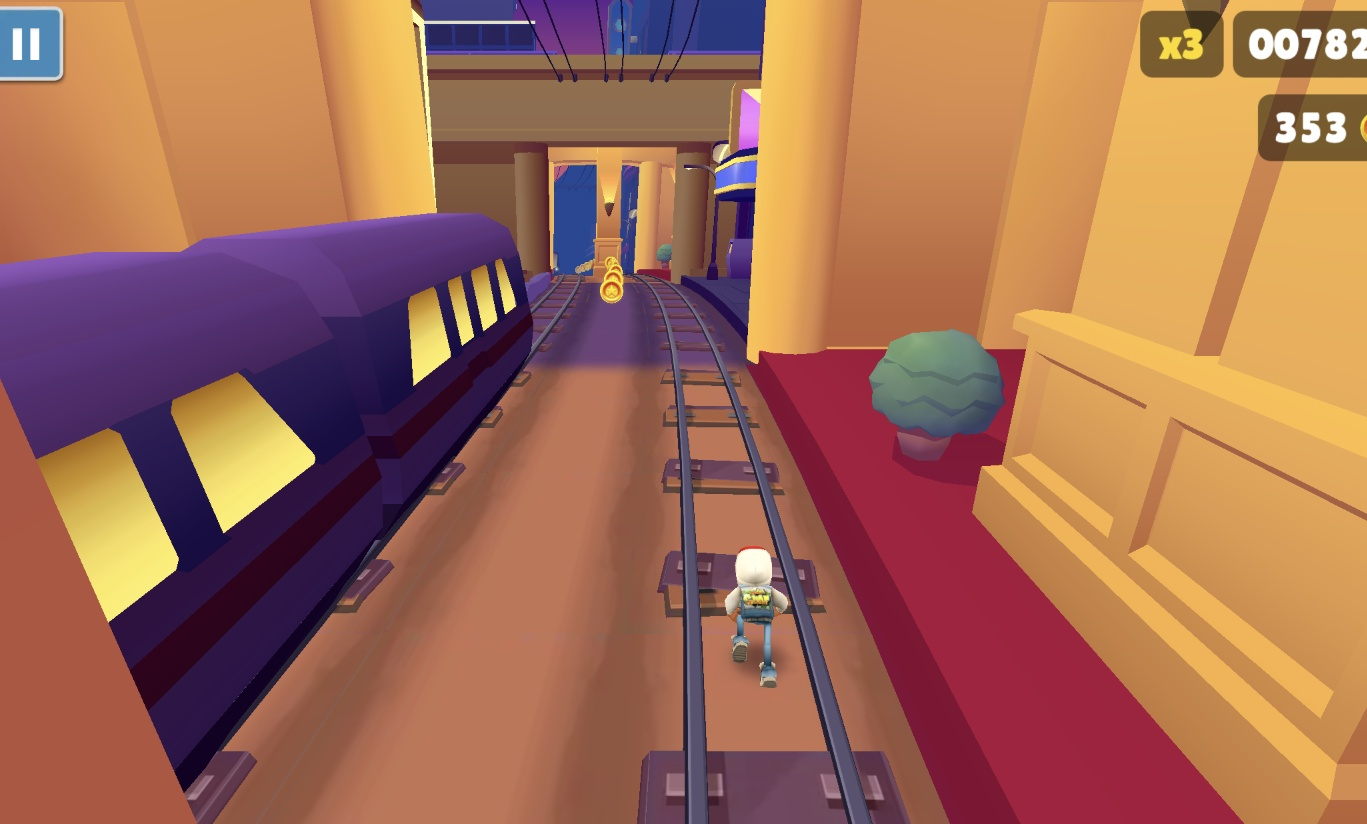pillar: (591, 145, 628, 276)
train: (0, 212, 534, 790)
